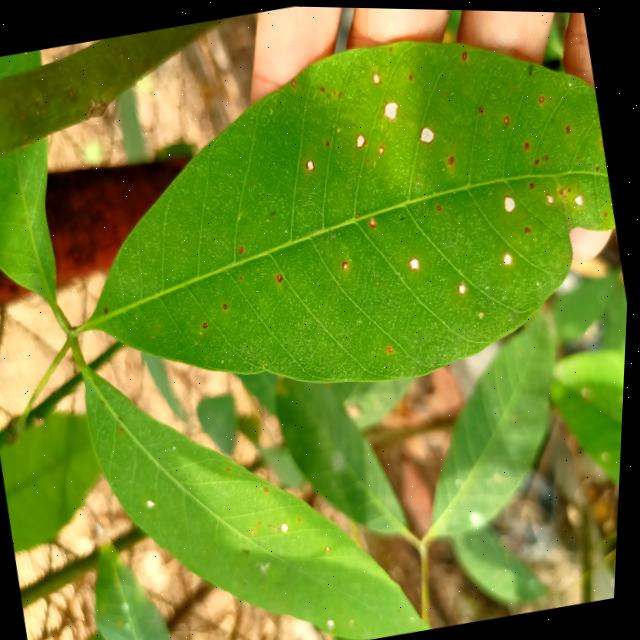Colletotrichum: (382, 97, 402, 119), (418, 122, 438, 143), (503, 191, 518, 211), (409, 253, 424, 270), (356, 131, 368, 147), (459, 279, 471, 294), (306, 157, 317, 170), (343, 258, 351, 267), (278, 272, 286, 280), (379, 143, 386, 152), (526, 222, 534, 229), (504, 113, 510, 122), (291, 77, 297, 85), (530, 179, 536, 186), (205, 320, 211, 327), (437, 202, 444, 208), (225, 301, 230, 308), (540, 93, 545, 99), (326, 138, 331, 144), (339, 90, 344, 95), (602, 137, 605, 145), (242, 274, 245, 277)
